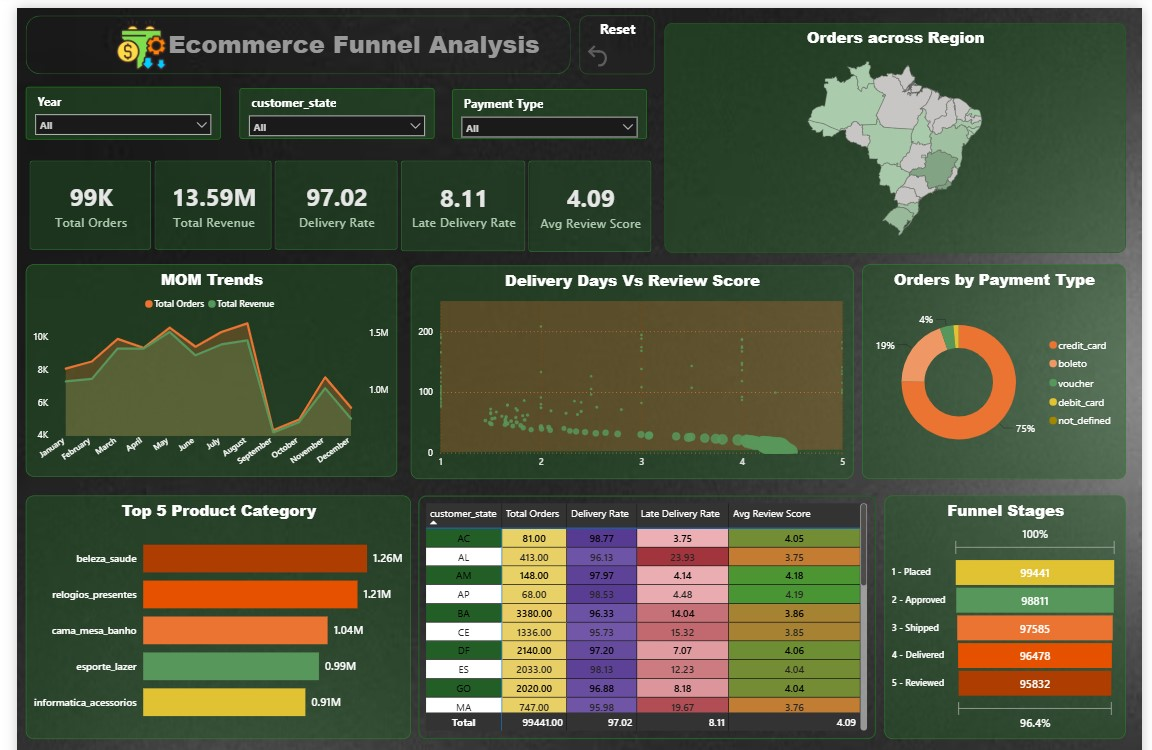

What the dashboard file says about the page in this screenshot:
{"tool":"powerbi","page":{"name":"Page 1","canvas":[1500,1300],"ordinal":0},"visuals":[{"type":"slicer","fields":{"Values":["orders.order_purchase_timestamp.Variation.Date Hierarchy.Year"]},"box":[12,105,260,82],"z":0},{"type":"slicer","fields":{"Values":["customers.customer_state"]},"box":[297,107,260,80],"z":1000},{"type":"slicer","fields":{"Values":["order_payments.payment_type"]},"box":[580,108,260,79],"z":2000},{"type":"cardVisual","fields":{"Data":["Measure Table (.Avg Review Score"]},"box":[665,186.7,198.3,156.7],"z":3000},{"type":"cardVisual","fields":{"Data":["Measure Table.Total Orders"]},"box":[0,186.7,196.7,153.3],"z":4000},{"type":"cardVisual","fields":{"Data":["Measure Table.Delivery Rate"]},"box":[326.7,186.7,198.3,153.3],"z":5000},{"type":"cardVisual","fields":{"Data":["Measure Table.Late Delivery Rate"]},"box":[495,186.7,200,155],"z":6000},{"type":"cardVisual","fields":{"Data":["Measure Table (.Total Revenue"]},"box":[166.7,186.7,190,153.3],"z":7000},{"type":"lineChart","title":"MOM Trends","fields":{"Category":["orders.order_purchase_timestamp.Variation.Date Hierarchy.Month"],"Y":["Measure Table (.Total Orders"],"Y2":["Measure Table (.Total Revenue"]},"box":[11.4,344.3,545.7,287.1],"z":8000},{"type":"donutChart","title":" Orders by Payment Type","fields":{"Category":["order_payments.payment_type"],"Y":["Measure Table (.Total Orders"]},"box":[1127.1,341.4,351.4,292],"z":10000},{"type":"clusteredBarChart","title":"Top 5 Product Category","fields":{"Category":["products.product_category_name"],"Y":["Measure Table (.Total Revenue"]},"box":[11.7,650,513.3,325],"z":11000},{"type":"map","title":"Orders across Region","fields":{"Category":["customers.customer_state"],"Size":["Measure Table.Total Orders"]},"box":[863,10,616,324],"z":12000},{"type":"scatterChart","title":"Delivery Days Vs Review Score","fields":{"Category":["customers.customer_state"],"Size":["Measure Table.Total Orders"],"X":["Measure Table.Avg Review Score"],"Y":["Measure Table.Average of days_deliver"]},"box":[568.6,342.9,547.1,285.7],"z":13000},{"type":"pivotTable","fields":{"Rows":["customers.customer_state"],"Values":["Measure Table.Total Orders","Measure Table.Total Revenue","Measure Table.Late Delivery Rate","Measure Table.Avg Review Score"]},"box":[535,650,610,325],"z":14000},{"type":"funnel","title":"Funnel Stages","fields":{"Category":["FunnelStages.Stage"],"Y":["FunnelStages.Funnel Orders"]},"box":[1156.7,650,321.7,325],"z":15000},{"type":"shape","box":[11.7,10,726.7,78.3],"z":16000},{"type":"actionButton","title":"Reset","box":[750,10,100,78.3],"z":17000},{"type":"textbox","box":[161.4,20,528.6,68.6],"z":18000},{"type":"image","box":[34.3,10,162.9,78.6],"z":19000}]}

Visuals, with their boxes on the page's 1500x1300 design canvas (x1, y1, x2, y2). These are canvas units, not pixel positions in the 1152x750 screenshot, which may show the page scaled, cropped or inside an application window:
slicer - orders.order_purchase_timestamp.Variation.Date Hierarchy.Year: <box>12,105,272,187</box>
slicer - customers.customer_state: <box>297,107,557,187</box>
slicer - order_payments.payment_type: <box>580,108,840,187</box>
cardVisual - Measure Table (.Avg Review Score: <box>665,187,863,343</box>
cardVisual - Measure Table.Total Orders: <box>0,187,197,340</box>
cardVisual - Measure Table.Delivery Rate: <box>327,187,525,340</box>
cardVisual - Measure Table.Late Delivery Rate: <box>495,187,695,342</box>
cardVisual - Measure Table (.Total Revenue: <box>167,187,357,340</box>
"MOM Trends" lineChart: <box>11,344,557,631</box>
" Orders by Payment Type" donutChart: <box>1127,341,1478,633</box>
"Top 5 Product Category" clusteredBarChart: <box>12,650,525,975</box>
"Orders across Region" map: <box>863,10,1479,334</box>
"Delivery Days Vs Review Score" scatterChart: <box>569,343,1116,629</box>
pivotTable - customers.customer_state x Measure Table.Total Orders: <box>535,650,1145,975</box>
"Funnel Stages" funnel: <box>1157,650,1478,975</box>
shape: <box>12,10,738,88</box>
"Reset" actionButton: <box>750,10,850,88</box>
textbox: <box>161,20,690,89</box>
image: <box>34,10,197,89</box>
